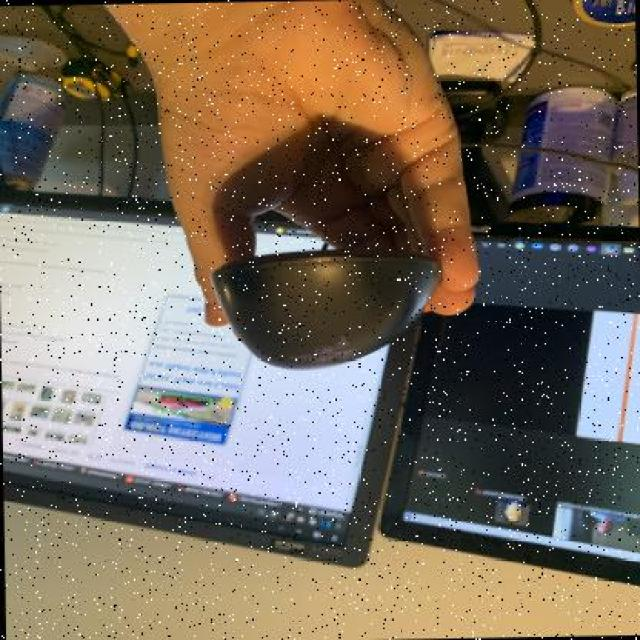mause: (205, 169, 428, 493)
